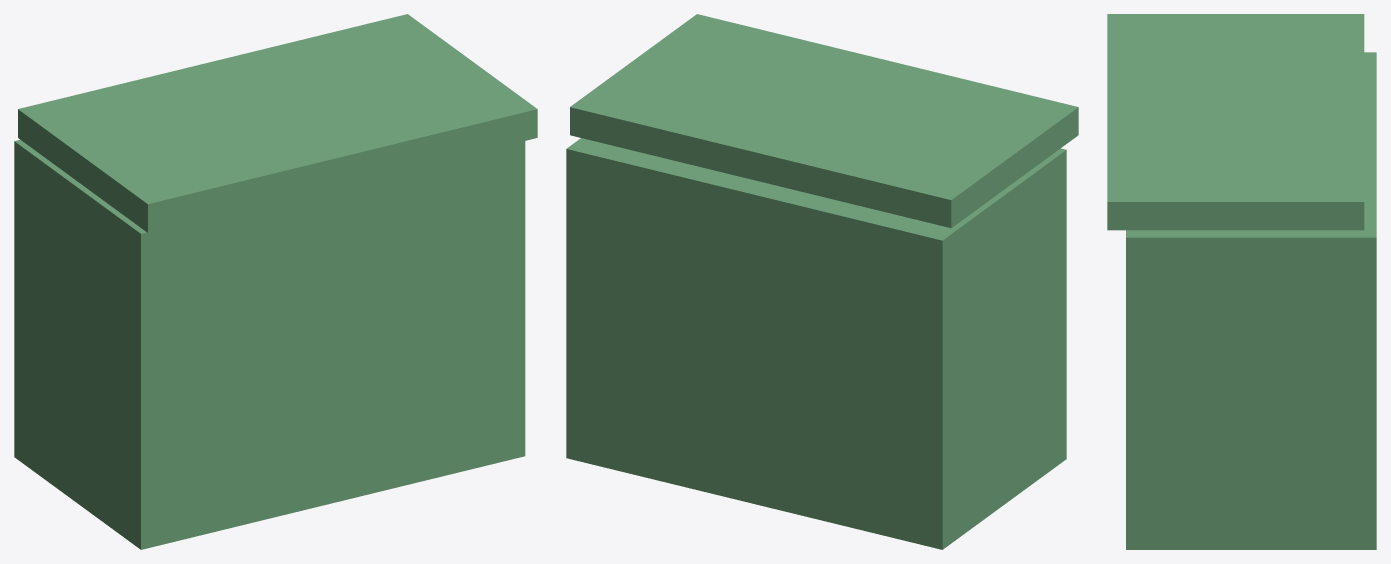
File: dumpster.glb
3 renders of one model, left to right at view 1: azimuth 30°, elevation 25°; view 2: azimuth 150°, elevation 25°; view 3: azimuth 270°, elevation 25°, orthographic. The views are drawn at different scales.
Size of the model in its own units: 1.42 by 1.23 by 0.86.
